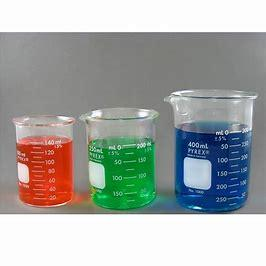Beaker: (164, 83, 259, 211), (85, 103, 162, 206), (9, 104, 80, 210)
